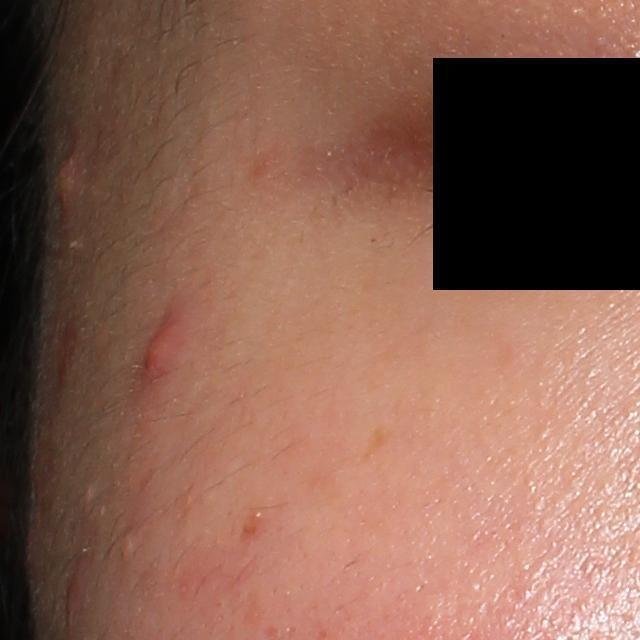melasma: (363, 425, 387, 462)
papule: (139, 321, 174, 382), (47, 160, 80, 201)
